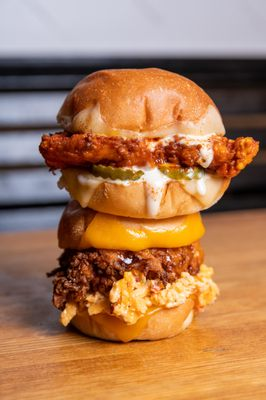soup: (38, 67, 263, 345)
